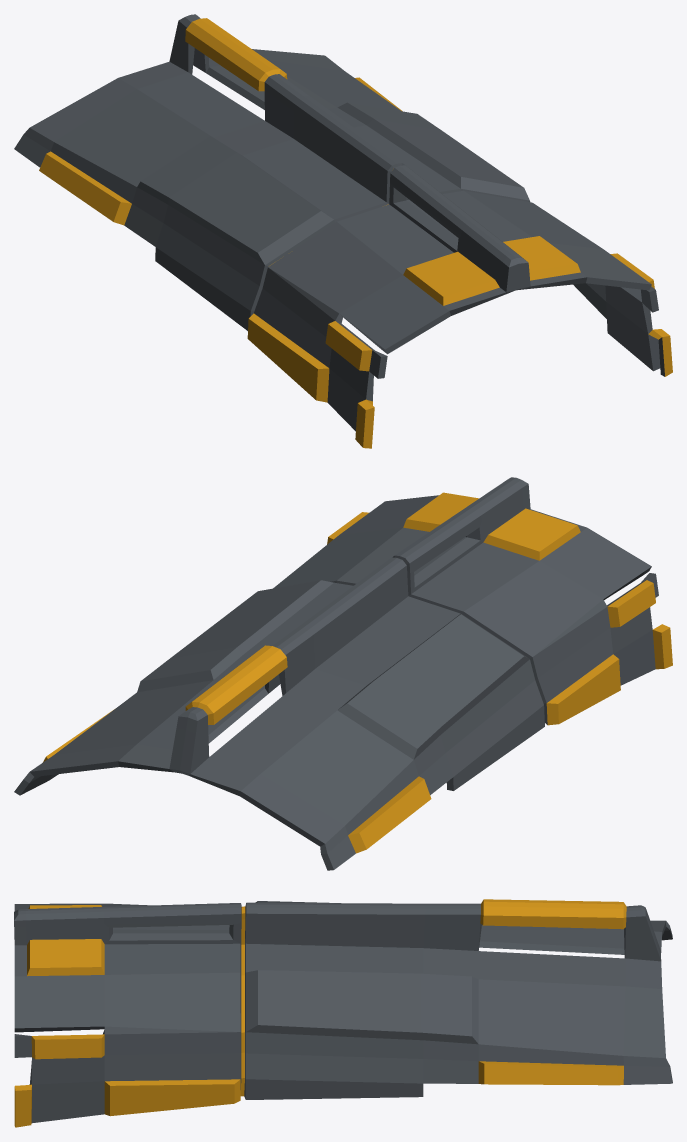
The model's file is Dropship_04_Top_Frame_Yellow.fbx.
The picture shows the model from 3 angles, top to bottom: view 1: azimuth 30°, elevation 25°; view 2: azimuth 150°, elevation 25°; view 3: azimuth 270°, elevation 25°; orthographic projection. The views are drawn at different scales.
Parts seen in each view (by area): view 1: Dropship_04_Top_Frame_Yellow; view 2: Dropship_04_Top_Frame_Yellow; view 3: Dropship_04_Top_Frame_Yellow.
Boxes of the visible parts, x1=… form: Dropship_04_Top_Frame_Yellow: x1=14, y1=14, x2=672, y2=448; Dropship_04_Top_Frame_Yellow: x1=14, y1=477, x2=672, y2=870; Dropship_04_Top_Frame_Yellow: x1=14, y1=899, x2=672, y2=1127.
Bounding box in the file's own units: 437 × 208 × 798.
1 material, 1 textured.
